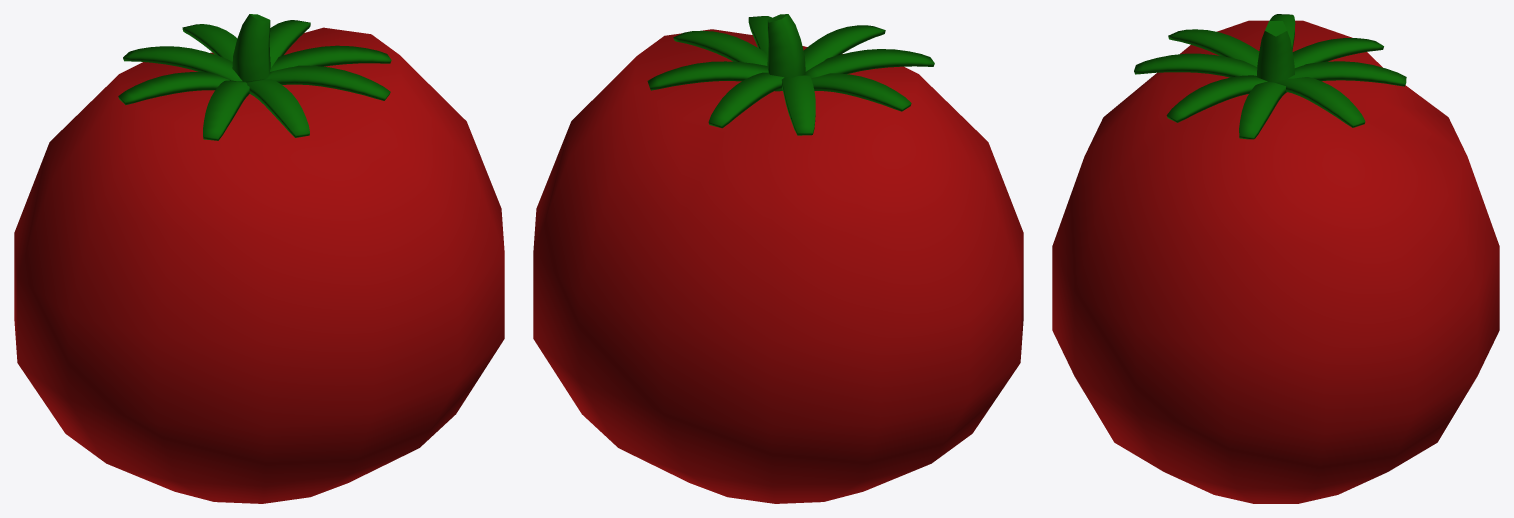
Rendered from Tomat.FBX.
The picture shows the model from 3 angles, left to right: view 1: azimuth 30°, elevation 25°; view 2: azimuth 150°, elevation 25°; view 3: azimuth 270°, elevation 25°; orthographic projection. The views are drawn at different scales.
Visible parts, largest first — view 1: Sphere002; view 2: Sphere002; view 3: Sphere002.
Boxes of the visible parts, bbox=[...] form: Sphere002: bbox=[14, 14, 504, 503]; Sphere002: bbox=[533, 14, 1023, 503]; Sphere002: bbox=[1052, 14, 1499, 503].
Bounding box in the file's own units: 40.38 × 41.34 × 37.04.
